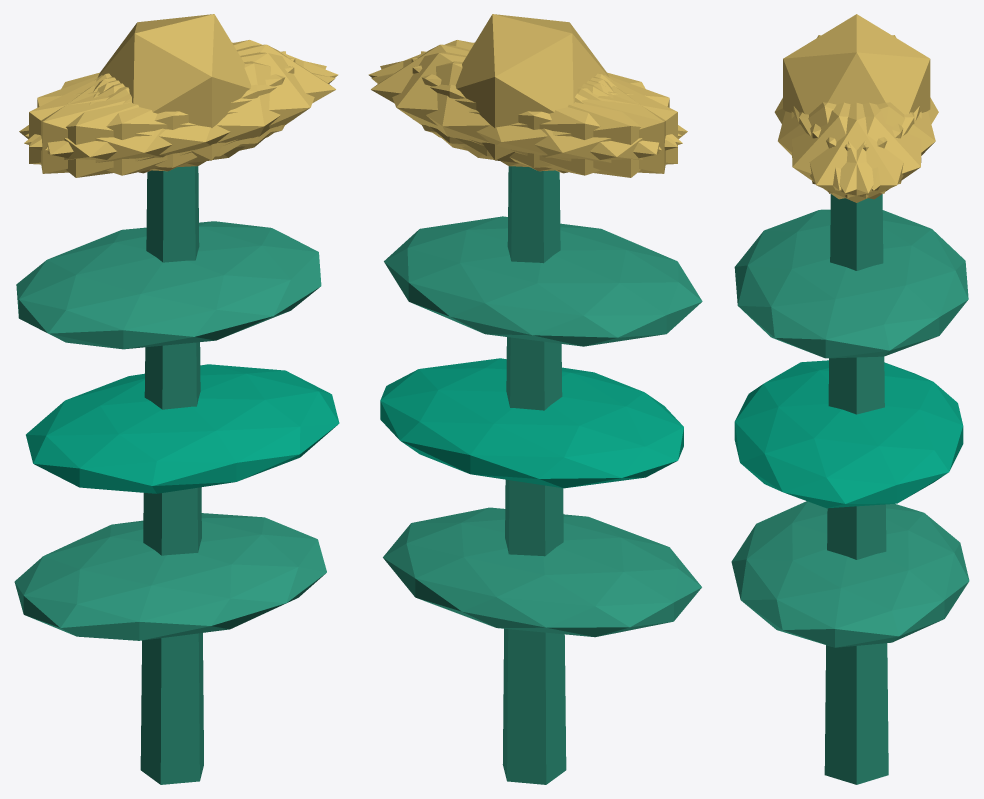
File: crassocephalum-crepidioides.glb
3 renders of one model, left to right at view 1: azimuth 30°, elevation 25°; view 2: azimuth 150°, elevation 25°; view 3: azimuth 270°, elevation 25°, orthographic.
Visible parts, largest first — view 1: leaf1, leaf2, leaf0, stem, center, petal1, petal6, petal2, petal5, petal7, petal0, petal4 (+2 smaller); view 2: leaf2, leaf0, leaf1, stem, center, petal8, petal3, petal7, petal4, petal2, petal0, petal5 (+2 smaller); view 3: leaf2, leaf1, leaf0, stem, center, petal0, petal5, petal4, petal1, petal8.
Part boxes in pixels (left/top/right/bottom): leaf1: left=26, top=364, right=339, bottom=493; leaf2: left=16, top=221, right=321, bottom=349; leaf0: left=14, top=513, right=326, bottom=640; stem: left=140, top=166, right=203, bottom=784; center: left=97, top=14, right=251, bottom=162; petal1: left=24, top=61, right=335, bottom=175; petal6: left=19, top=75, right=244, bottom=177; petal2: left=41, top=51, right=285, bottom=173; petal5: left=45, top=52, right=326, bottom=167; petal7: left=29, top=58, right=295, bottom=171; petal0: left=97, top=44, right=335, bottom=156; petal4: left=25, top=40, right=338, bottom=147; leaf2: left=384, top=216, right=702, bottom=346; leaf0: left=383, top=507, right=701, bottom=637; leaf1: left=380, top=358, right=683, bottom=488; stem: left=502, top=166, right=566, bottom=784; center: left=455, top=14, right=609, bottom=162; petal8: left=371, top=61, right=682, bottom=175; petal3: left=462, top=75, right=687, bottom=177; petal7: left=421, top=51, right=665, bottom=173; petal4: left=380, top=52, right=661, bottom=167; petal2: left=411, top=58, right=677, bottom=171; petal0: left=371, top=44, right=609, bottom=156; petal5: left=368, top=40, right=681, bottom=147; leaf2: left=734, top=209, right=968, bottom=358; leaf1: left=734, top=360, right=963, bottom=508; leaf0: left=731, top=501, right=969, bottom=647; stem: left=824, top=194, right=888, bottom=784; center: left=783, top=14, right=930, bottom=114; petal0: left=793, top=102, right=919, bottom=202; petal5: left=791, top=102, right=914, bottom=199; petal4: left=799, top=102, right=921, bottom=199; petal1: left=778, top=102, right=903, bottom=190; petal8: left=810, top=102, right=935, bottom=190.
Size of the model in its own units: 0.1452 by 0.3386 by 0.0991.
